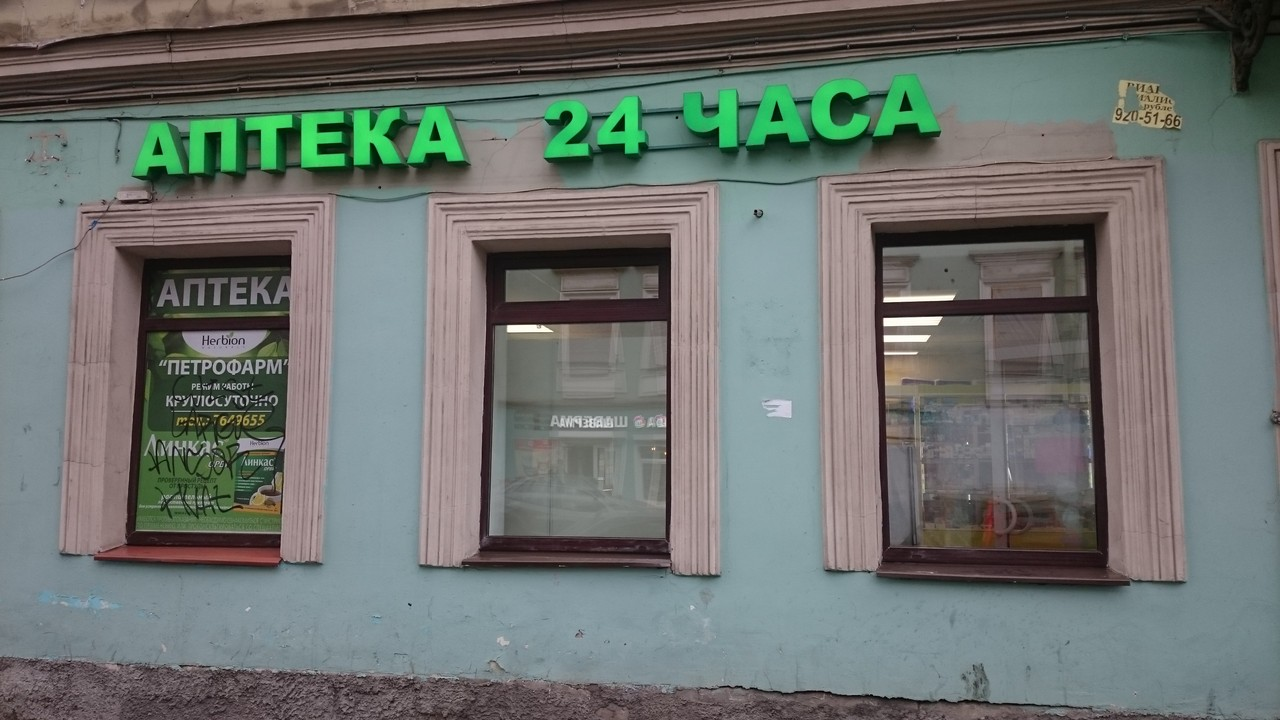signboard: (130, 64, 949, 181)
window: (877, 236, 1105, 568), (487, 252, 667, 559), (126, 257, 289, 547)
